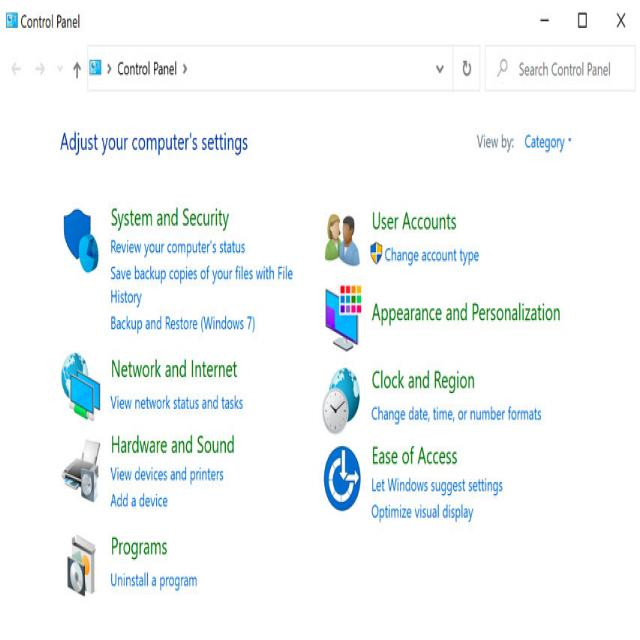button: (58, 195, 103, 282), (59, 341, 104, 428), (57, 524, 104, 605), (58, 433, 104, 513), (318, 443, 365, 521), (319, 278, 365, 357), (319, 362, 365, 440), (320, 197, 365, 273), (452, 46, 480, 90), (6, 41, 24, 91), (32, 44, 50, 89), (68, 46, 86, 90), (570, 6, 596, 36), (608, 6, 634, 36), (51, 45, 67, 89), (534, 6, 557, 36)
field: (87, 45, 453, 91), (485, 46, 636, 90)
